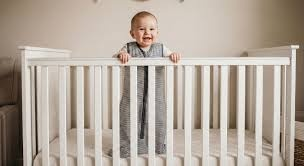baby: (116, 11, 180, 62)
crib: (20, 46, 297, 165)
